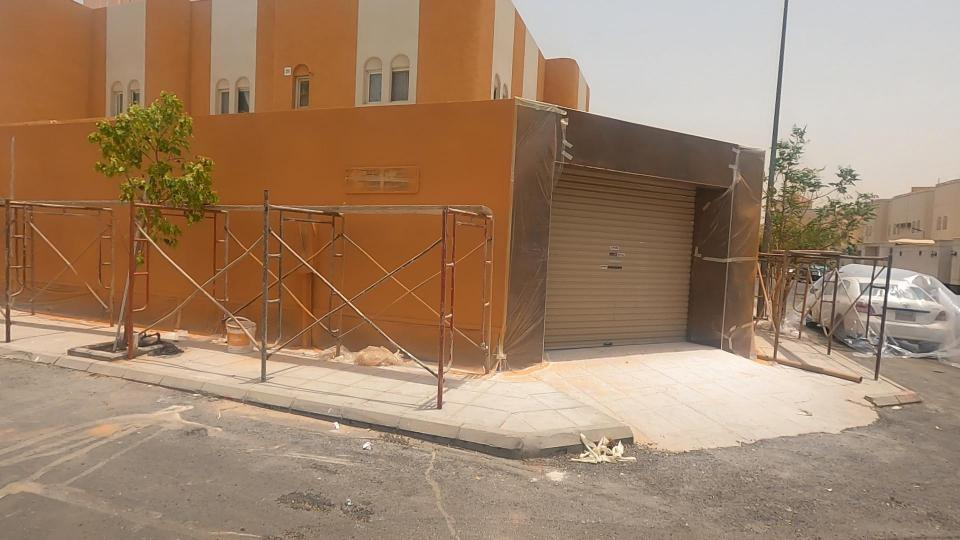GARBAGE: (513, 393, 675, 497)
